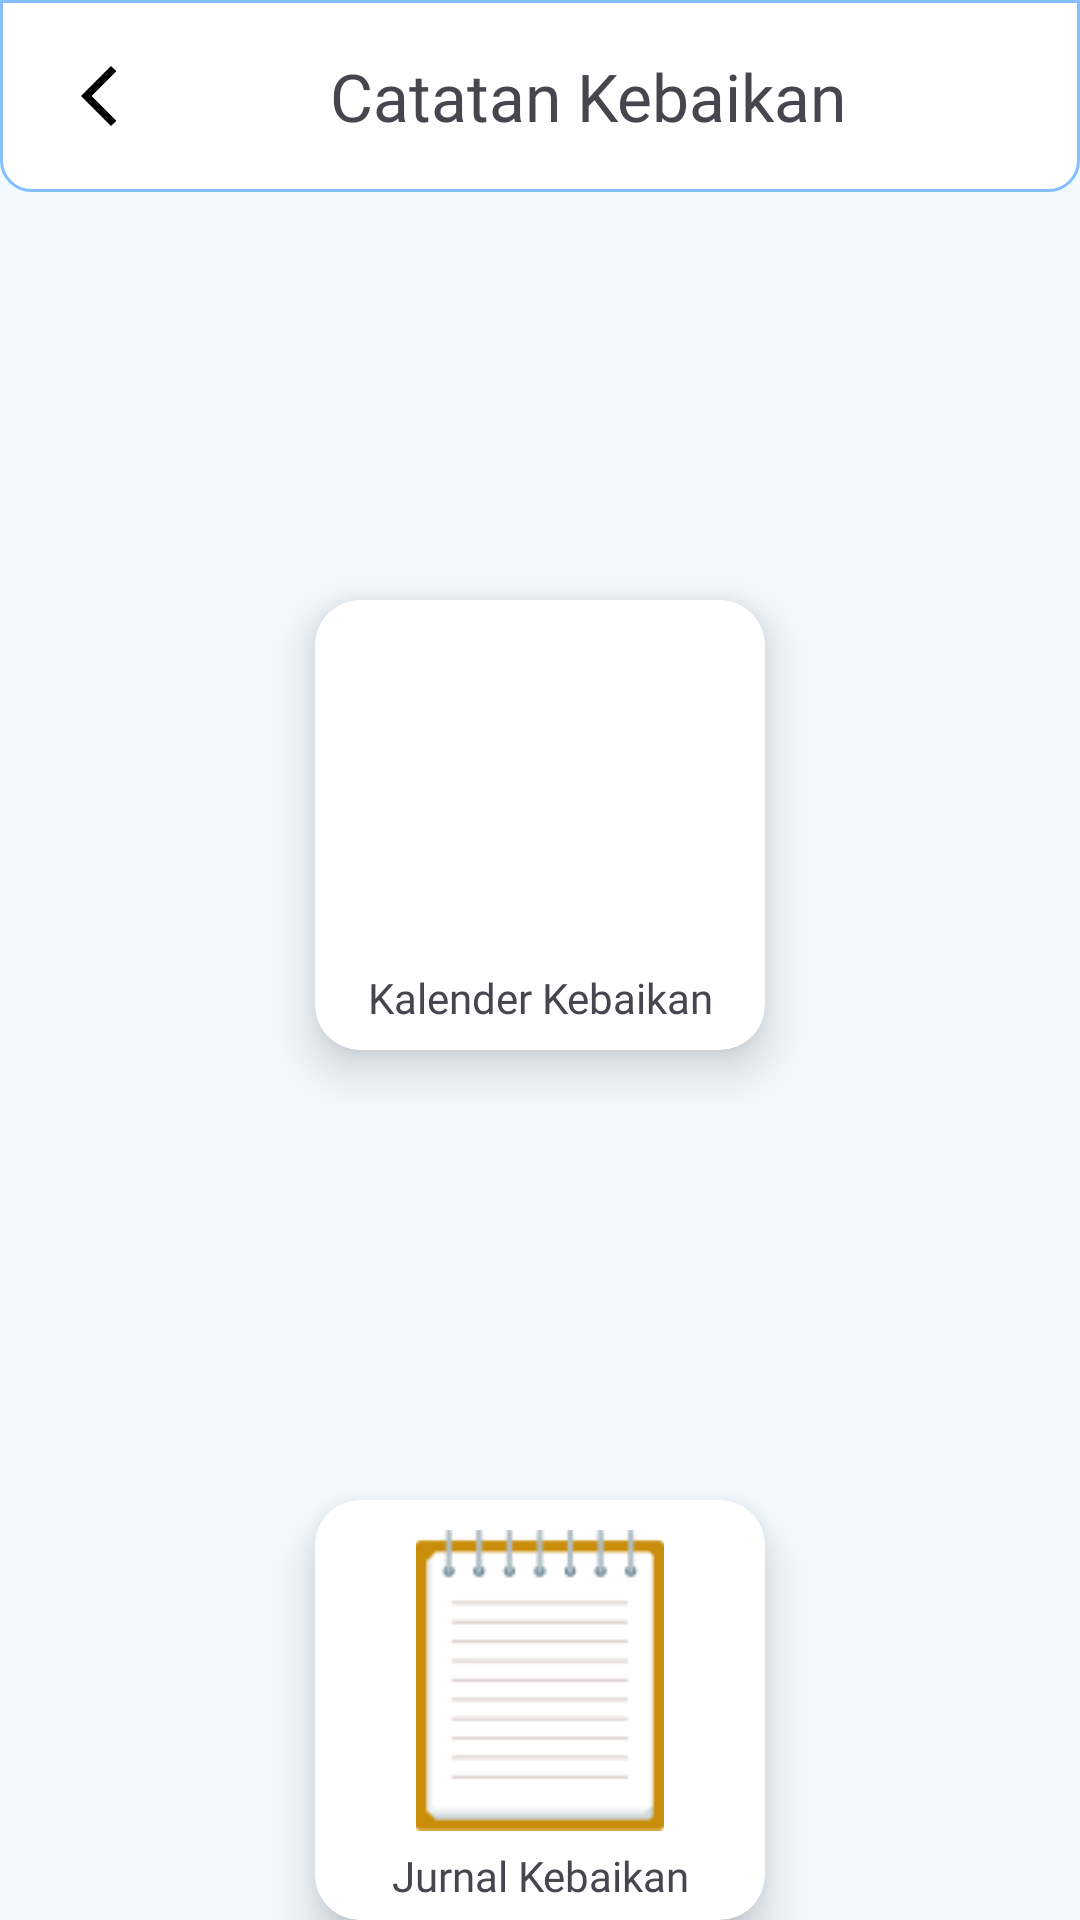

Icons on this 1080px×1920px Android screen, each with its box as (x1, y1, x2, y2):
kembali: (81, 66, 116, 126)
note: (416, 1530, 664, 1831)
